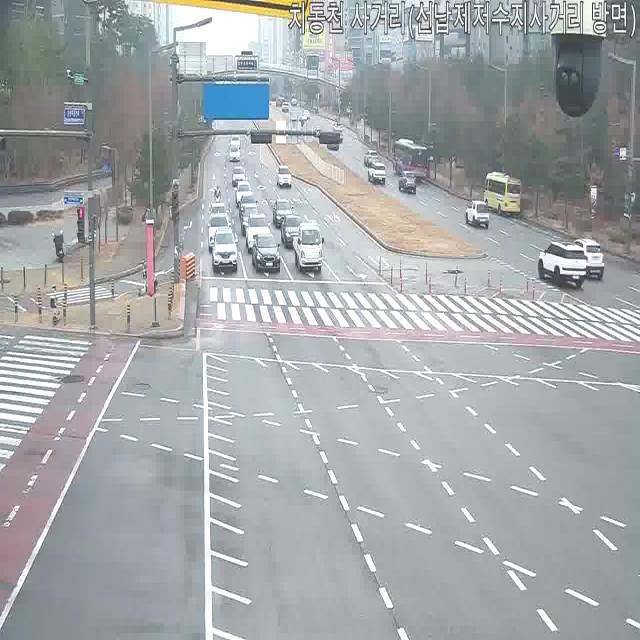Bus: (482, 172, 524, 216), (392, 138, 430, 180)
Car: (538, 240, 588, 288), (482, 172, 524, 216), (569, 236, 605, 281), (210, 228, 238, 274), (251, 233, 281, 274), (244, 213, 271, 252), (207, 214, 232, 251), (280, 214, 306, 249), (466, 199, 490, 229), (272, 198, 294, 228), (208, 202, 230, 230), (240, 207, 262, 235), (239, 192, 258, 221), (235, 180, 253, 208), (398, 170, 416, 194), (368, 162, 386, 185), (276, 166, 292, 188), (232, 166, 246, 188), (364, 149, 380, 167), (227, 143, 241, 163), (326, 133, 339, 151), (228, 136, 242, 152), (332, 121, 343, 135), (314, 126, 323, 139), (274, 96, 284, 107), (302, 108, 310, 120), (282, 102, 290, 112)
Motorcycle: (213, 184, 222, 208)
Truck: (294, 221, 324, 273)
